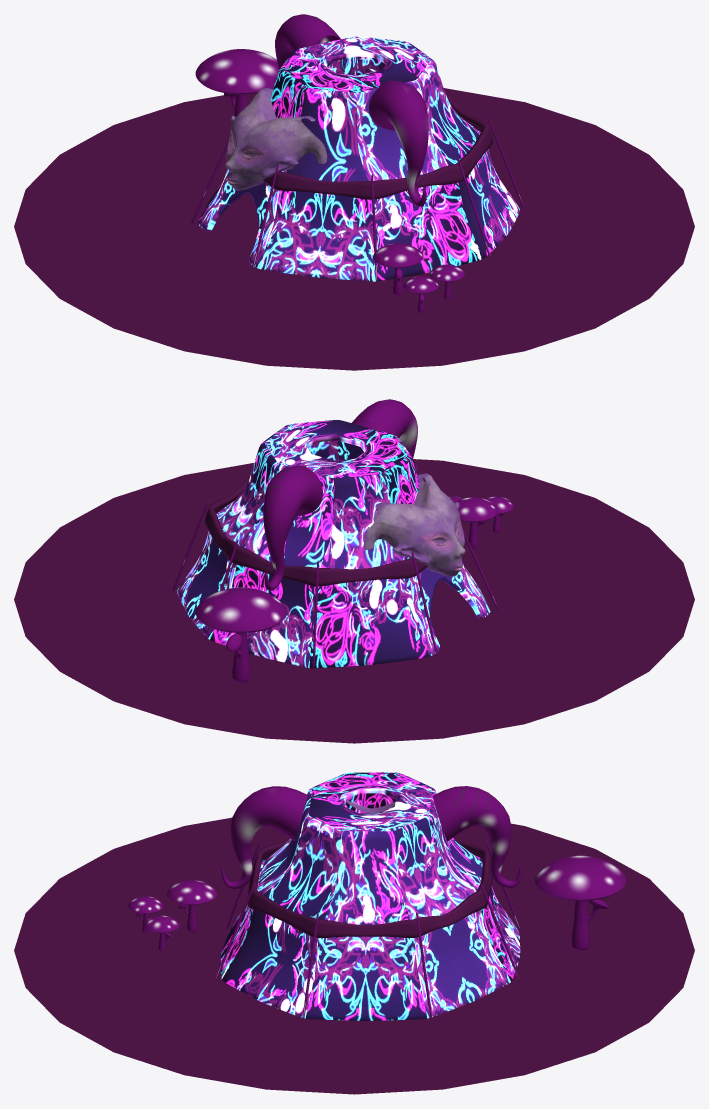
File: kalizatent.glb
3 views of the same model, one above another, from view 1: azimuth 30°, elevation 25°; view 2: azimuth 150°, elevation 25°; view 3: azimuth 270°, elevation 25° (orthographic).
Parts seen in each view (by area): view 1: pDisc1.001, pCylinder5.007, pCylinder5.001, pCylinder5.004, pCylinder5.006; view 2: pDisc1.001, pCylinder5.007, pCylinder5.001, pCylinder5.004, pCylinder5.006; view 3: pDisc1.001, pCylinder5.007, pCylinder5.001, pCylinder5.006.
Boxes of the visible parts, left/top/right/bottom form: pDisc1.001: left=14, top=88, right=694, bottom=370; pCylinder5.007: left=198, top=36, right=519, bottom=281; pCylinder5.001: left=191, top=14, right=524, bottom=312; pCylinder5.004: left=225, top=87, right=327, bottom=190; pCylinder5.006: left=225, top=94, right=493, bottom=199; pDisc1.001: left=14, top=459, right=694, bottom=743; pCylinder5.007: left=177, top=420, right=490, bottom=668; pCylinder5.001: left=172, top=399, right=513, bottom=682; pCylinder5.004: left=364, top=473, right=465, bottom=576; pCylinder5.006: left=204, top=477, right=427, bottom=586; pDisc1.001: left=14, top=817, right=694, bottom=1094; pCylinder5.007: left=221, top=772, right=520, bottom=1020; pCylinder5.001: left=128, top=786, right=626, bottom=1019; pCylinder5.006: left=247, top=837, right=492, bottom=937.
Size of what is drawn, in the model's own units: 1.35 by 0.3695 by 1.35.
Materials: 4 (3 with a texture image).
